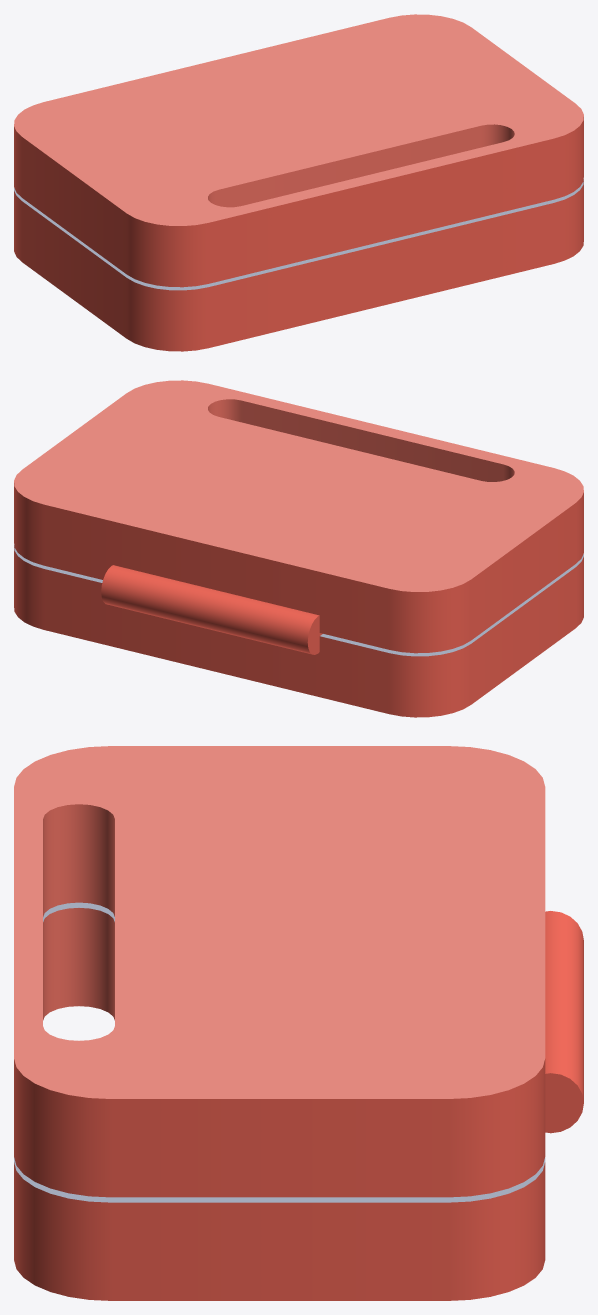
File: Toaster A.fbx
3 views of the same model, one above another, from view 1: azimuth 30°, elevation 25°; view 2: azimuth 150°, elevation 25°; view 3: azimuth 270°, elevation 25° (orthographic). The views are drawn at different scales.
Visible parts, largest first — view 1: Tosater A.001, Tosater A; view 2: Tosater A.001, Tosater A; view 3: Tosater A.001, Tosater A.
Boxes of the visible parts, x1,y1,x2,y2 form: Tosater A.001: (14,14,583,287); Tosater A: (14,179,583,351); Tosater A.001: (14,380,583,654); Tosater A: (14,545,583,717); Tosater A.001: (14,746,583,1197); Tosater A: (14,902,545,1300).
Size of the model in its own units: 0.6434 by 0.1716 by 0.439.
